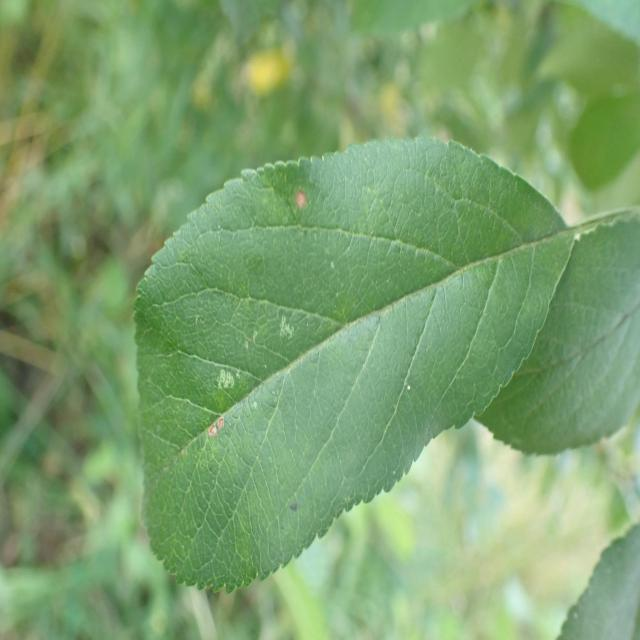frog-eye-leaf-spot: (133, 134, 573, 597)
